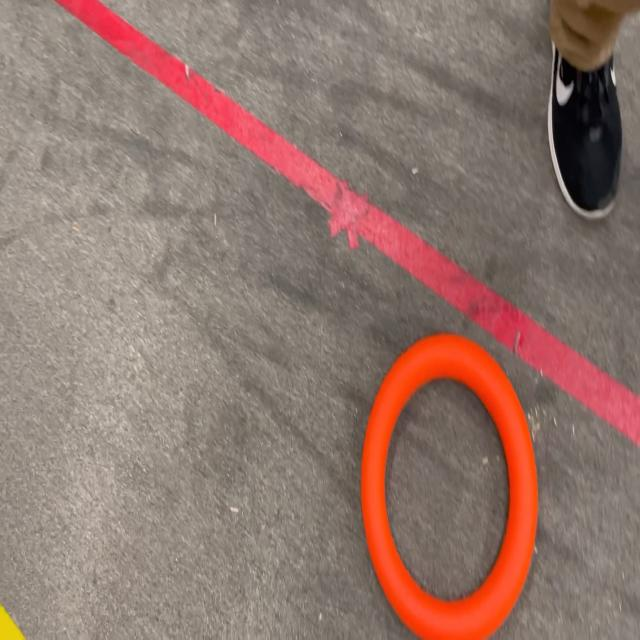note: (362, 337, 538, 640)
